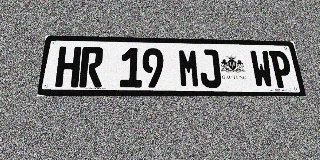1: (120, 48, 142, 87)
9: (143, 48, 164, 88)
H: (55, 46, 81, 87)
J: (198, 49, 222, 88)
M: (178, 49, 201, 88)
P: (268, 51, 294, 88)
R: (79, 47, 104, 87)
W: (249, 50, 275, 88)
